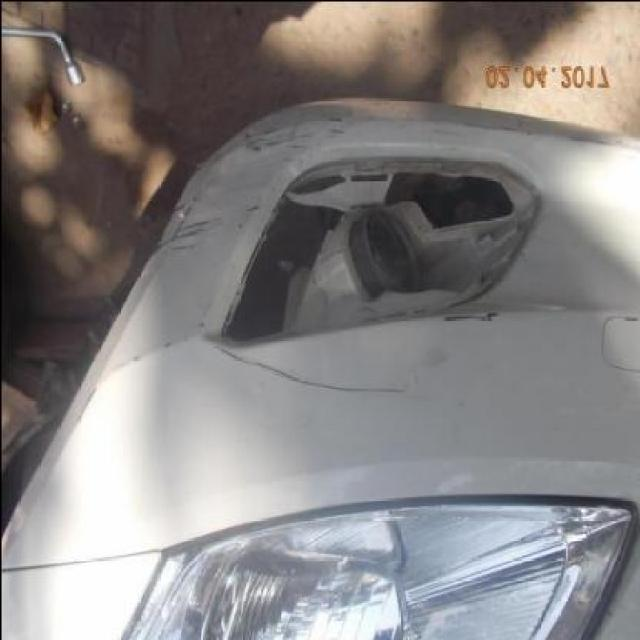damage: (223, 156, 543, 343), (209, 344, 415, 396), (148, 203, 267, 254), (234, 110, 347, 157), (442, 307, 501, 328)
